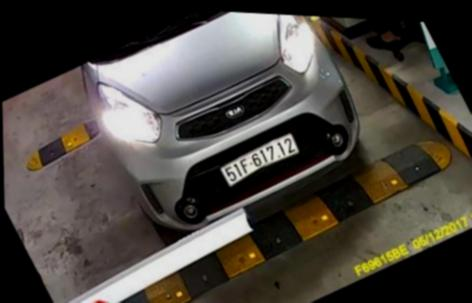License_Plate: (218, 134, 310, 189)
